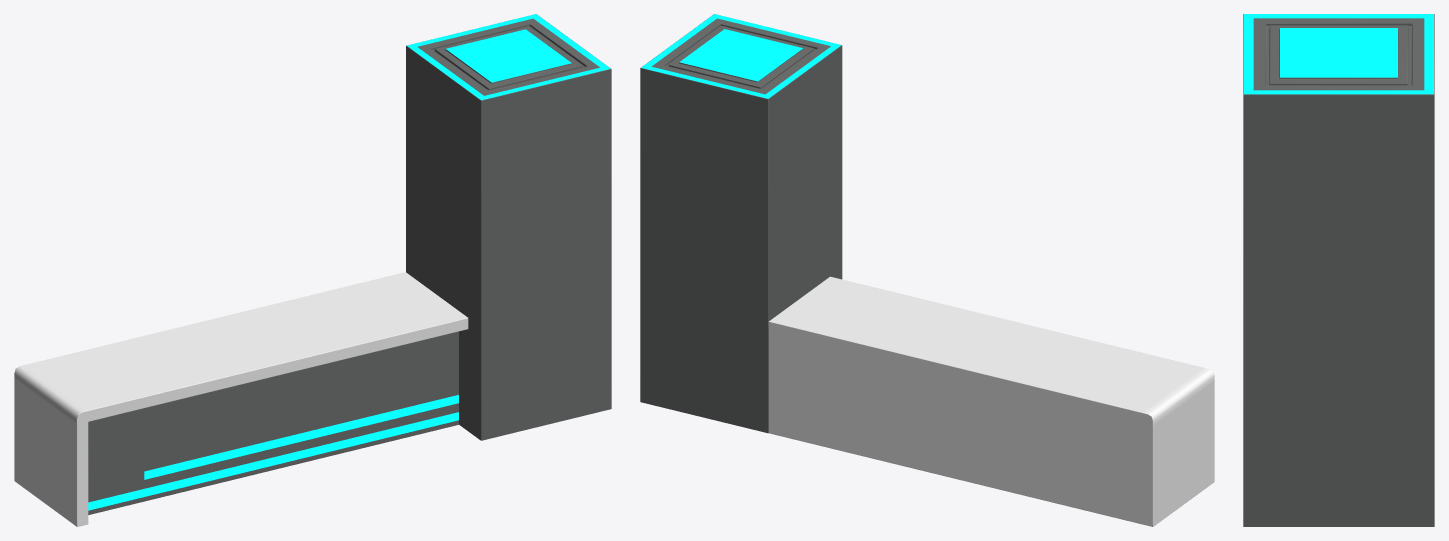
The model's file is FrontCounter.fbx.
3 views of the same model, side by side, from view 1: azimuth 30°, elevation 25°; view 2: azimuth 150°, elevation 25°; view 3: azimuth 270°, elevation 25° (orthographic). The views are drawn at different scales.
Visible parts, largest first — view 1: Plane017; view 2: Plane017; view 3: Plane017.
Part boxes in pixels (<box>): Plane017: <box>14,14,611,526</box>; Plane017: <box>640,14,1214,526</box>; Plane017: <box>1243,14,1434,526</box>.
Size of the model in its own units: 240 by 150 by 60.
Materials: 1 (1 with a texture image).
